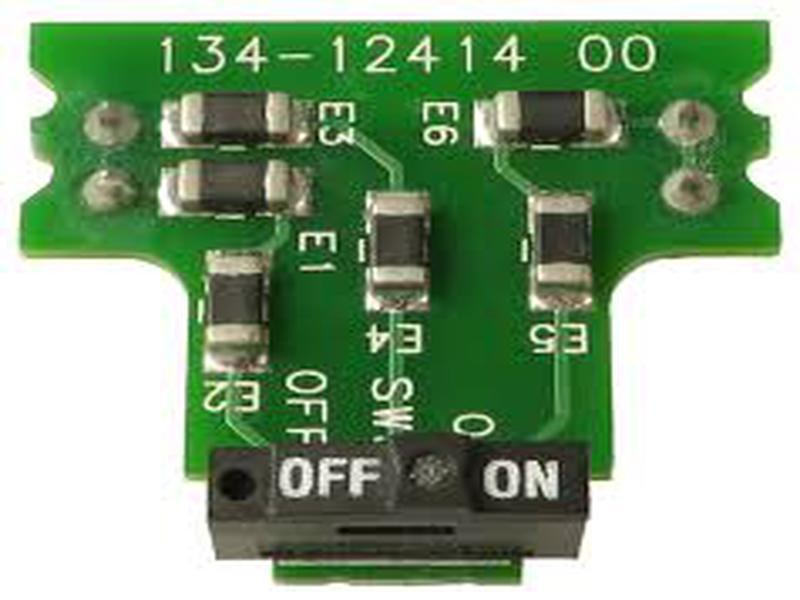SMD resistor: (175, 92, 292, 141)
